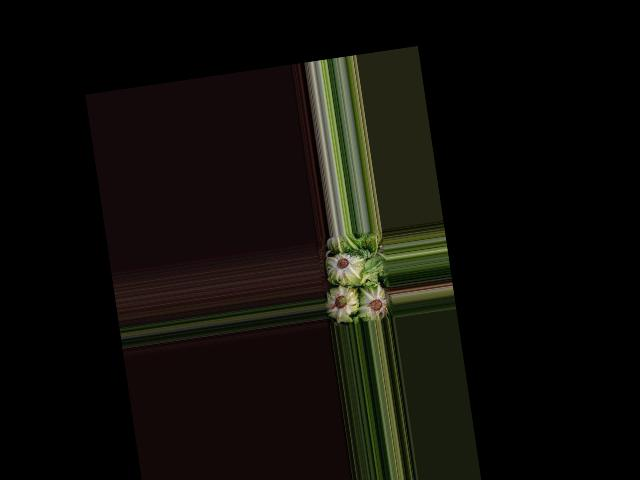lettuce: (354, 283, 390, 322)
